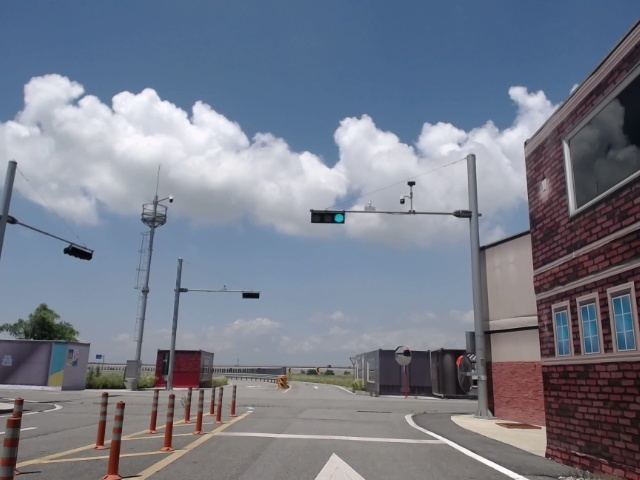green_3: (312, 212, 344, 223)
